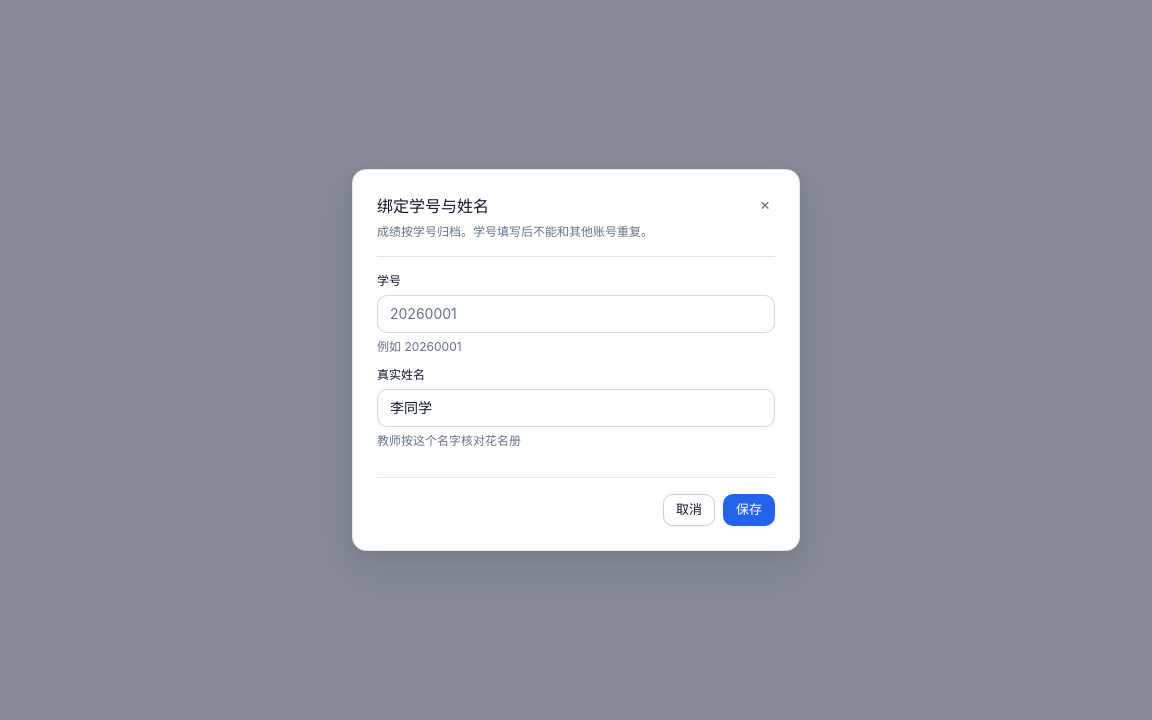
Scenario: ProfileDialog › requires student_no for student accounts before saving
Click the button "保存": [749, 510] box [723,494,775,526]
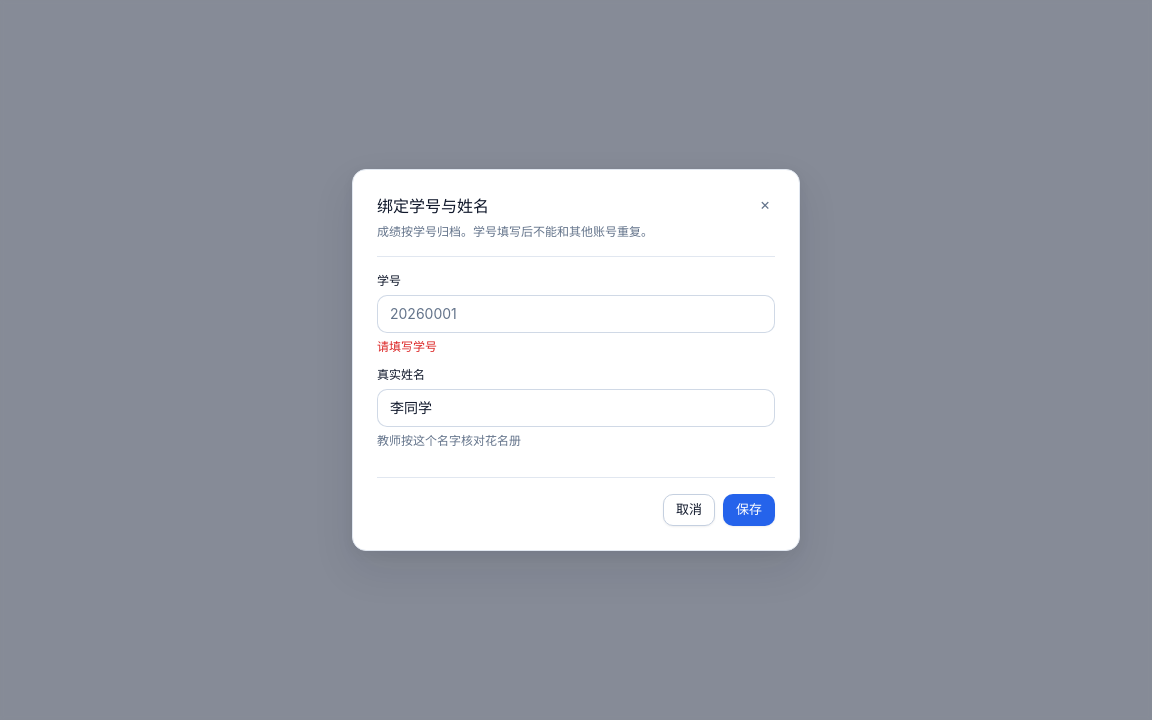
Expected: the text "请填写学号" is shown, [377,339,437,354]
